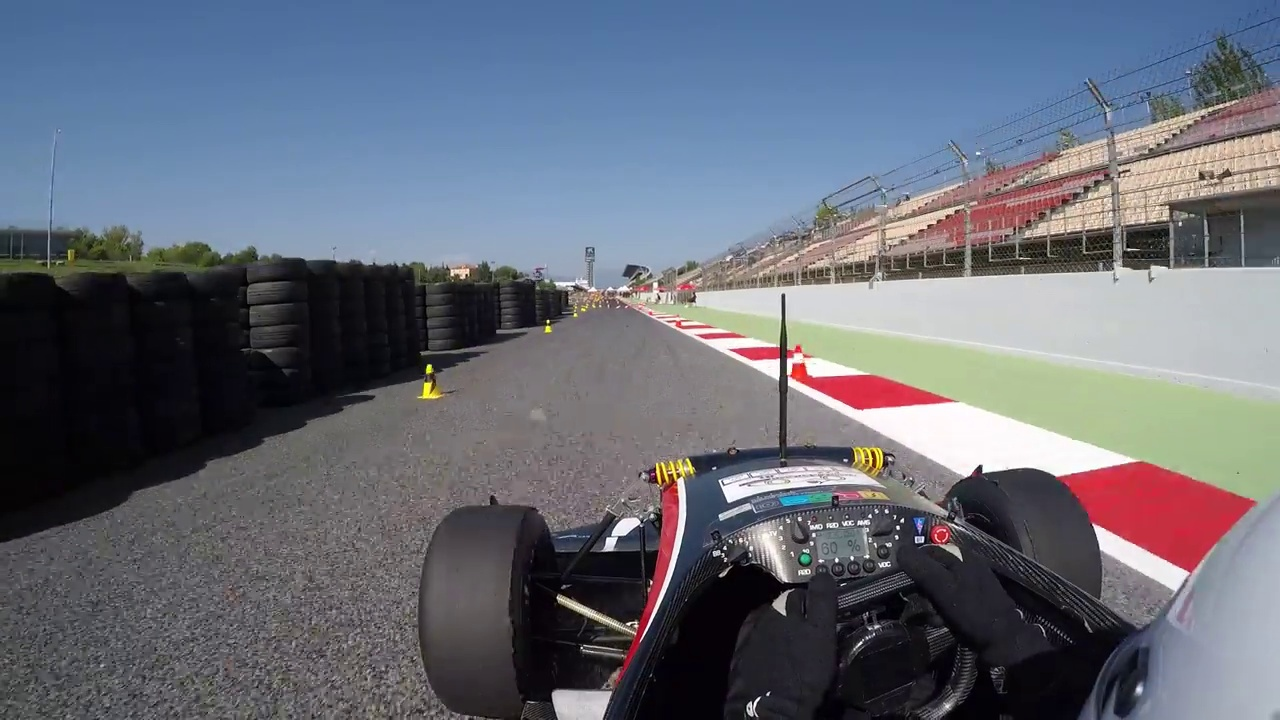Cone: (418, 364, 447, 404), (789, 344, 816, 384)
